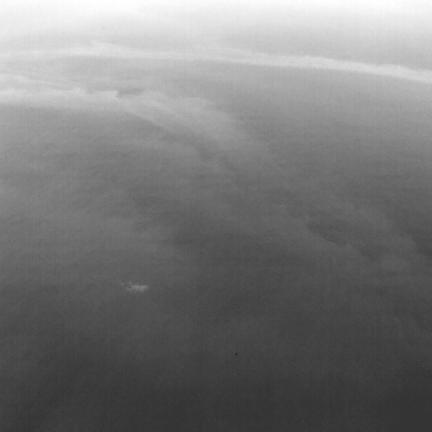flukeprints: (129, 283, 148, 291)
